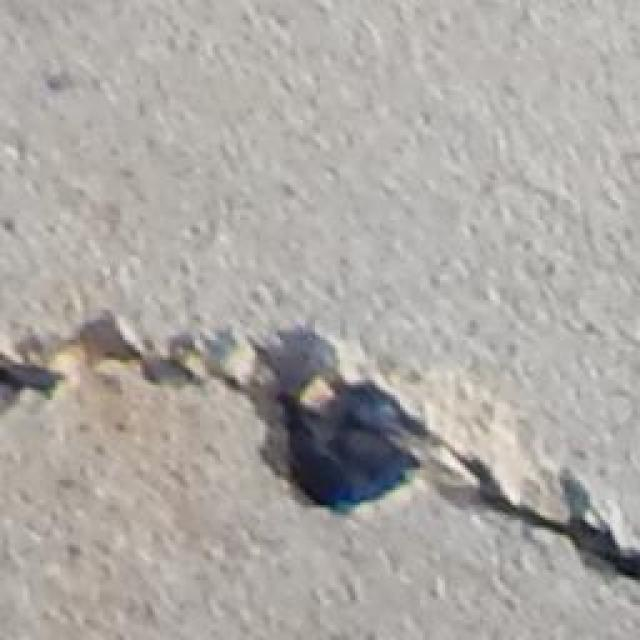concrete-crack: (0, 292, 638, 593)
